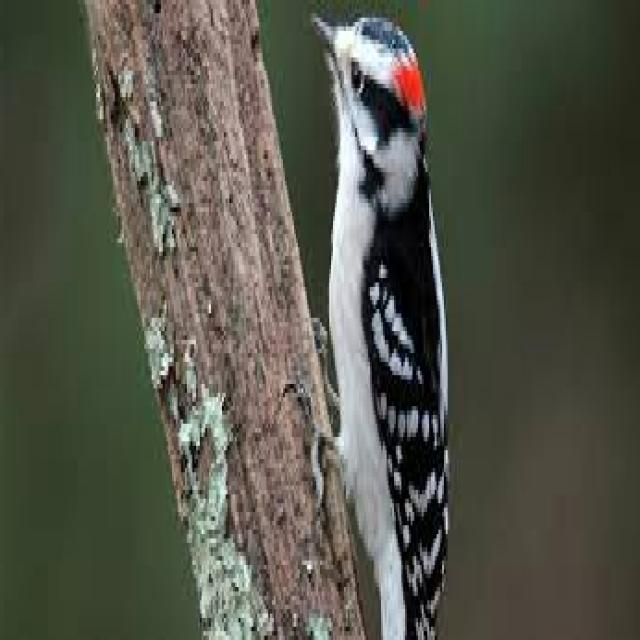woodpecker: (314, 18, 448, 636)
